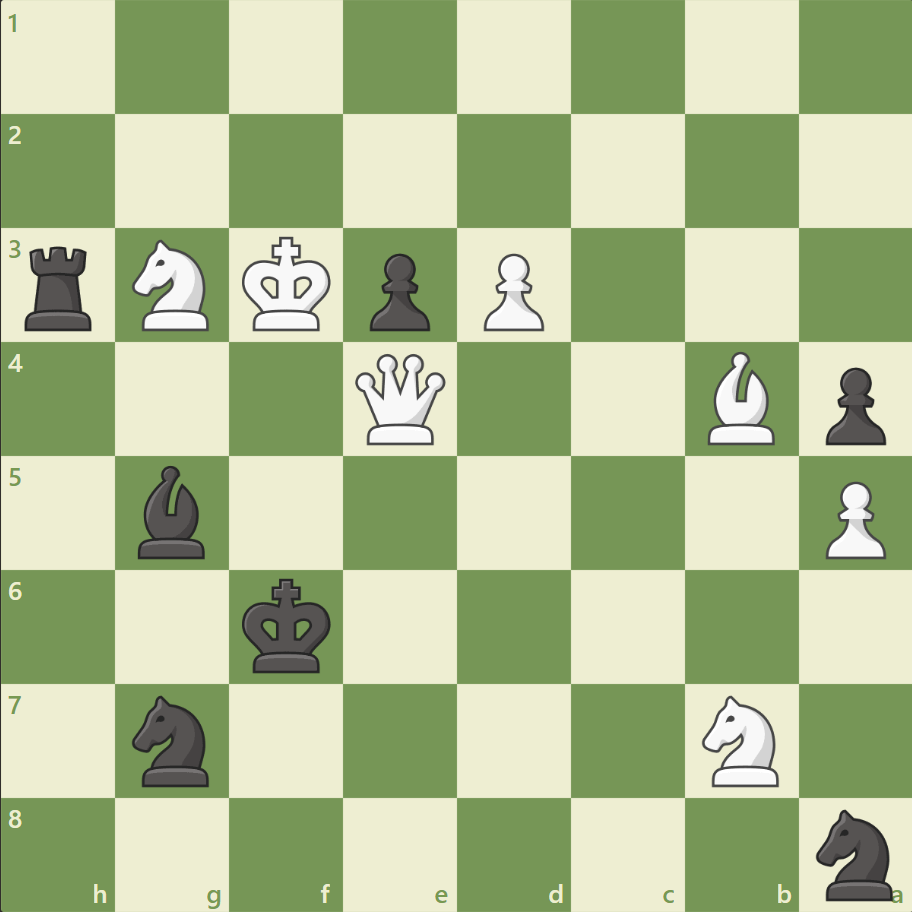B: (698, 347, 782, 449)
K: (238, 231, 338, 339)
N: (124, 234, 222, 337), (692, 688, 789, 791)
P: (474, 246, 549, 337), (815, 473, 889, 564)
Q: (351, 349, 450, 449)
b: (131, 460, 215, 563)
k: (238, 571, 338, 679)
n: (124, 688, 222, 791), (806, 802, 903, 904)
p: (815, 359, 889, 450), (361, 246, 435, 337)
r: (19, 239, 102, 336)
